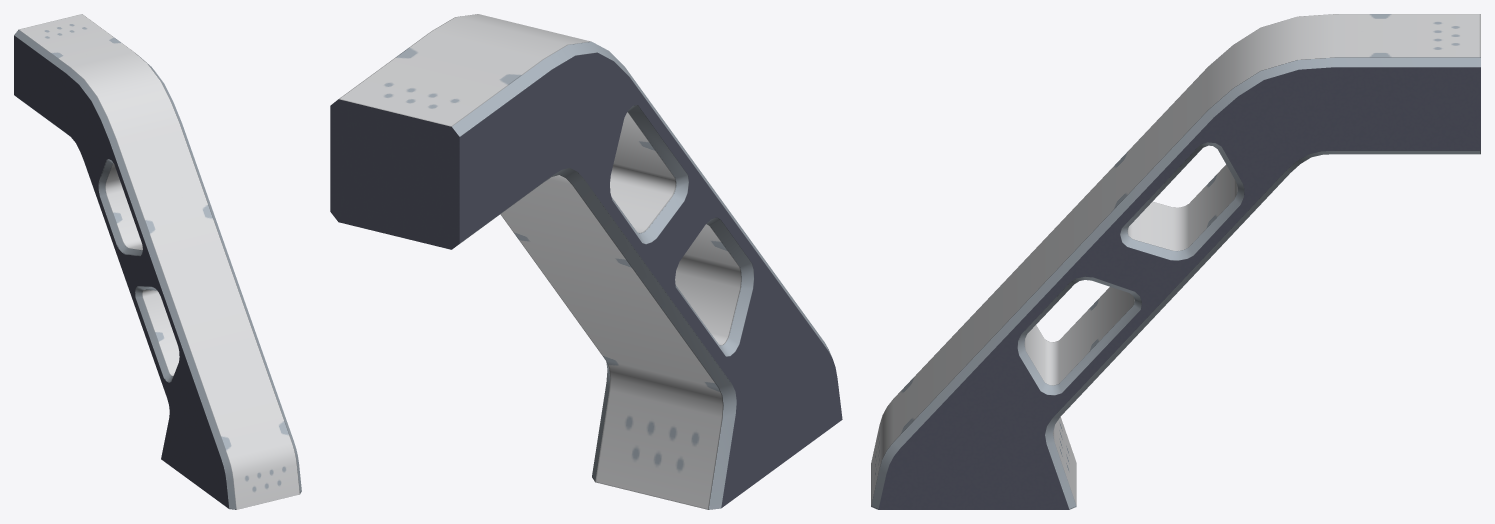
Rendered from Cruiser_Pylon_Attach_01.FBX.
The picture shows the model from 3 angles, left to right: view 1: azimuth 30°, elevation 25°; view 2: azimuth 150°, elevation 25°; view 3: azimuth 270°, elevation 25°; orthographic projection. The views are drawn at different scales.
Visible parts, largest first — view 1: Cruiser_Pylon_Attach_01; view 2: Cruiser_Pylon_Attach_01; view 3: Cruiser_Pylon_Attach_01.
Part boxes in pixels (x1,y1,x2,y2): Cruiser_Pylon_Attach_01: (14,14,301,509); Cruiser_Pylon_Attach_01: (330,14,842,509); Cruiser_Pylon_Attach_01: (871,14,1480,509).
Bounding box in the file's own units: 16 × 67.49 × 83.
